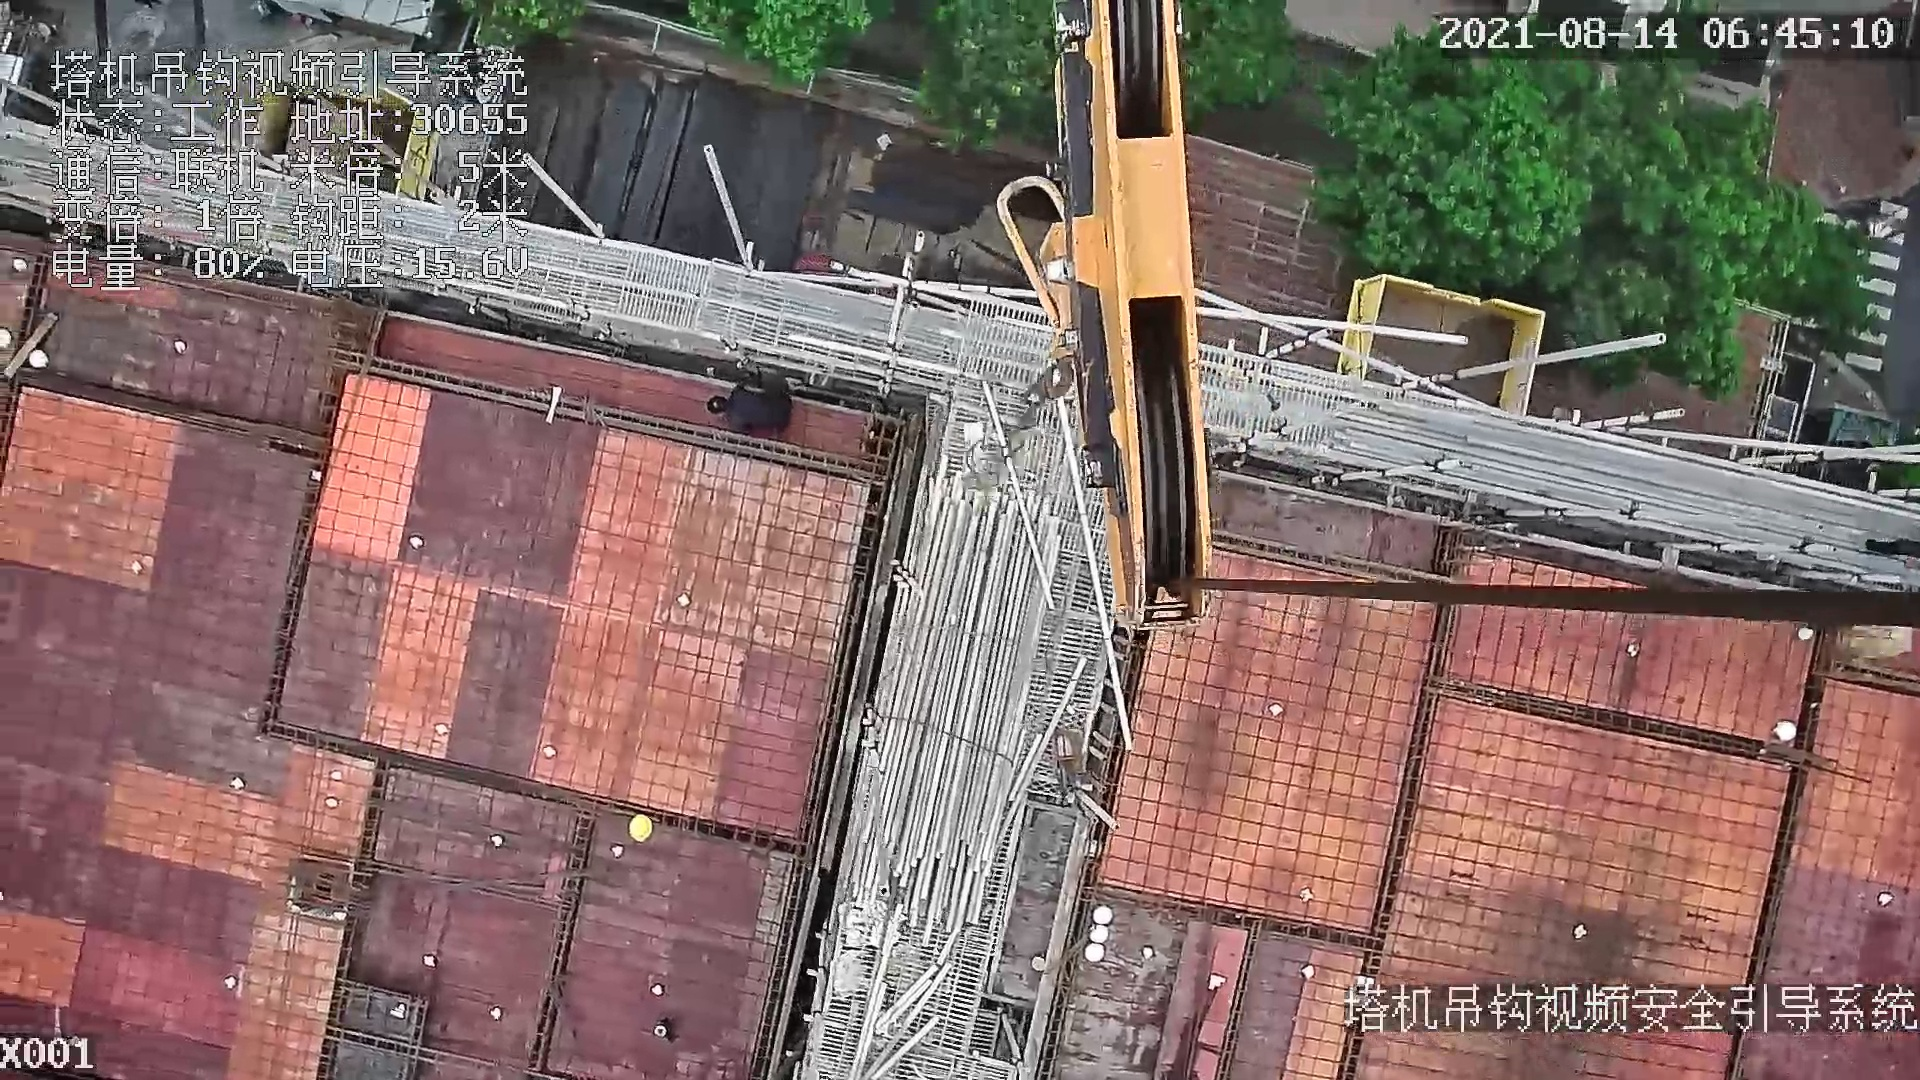helmet: (626, 811, 651, 839)
hook: (986, 5, 1220, 636)
person: (701, 378, 797, 431)
